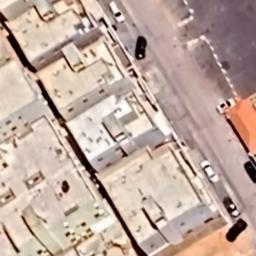SUV: (216, 98, 236, 114)
sedan: (226, 218, 248, 242), (200, 160, 220, 183), (222, 196, 240, 217), (243, 160, 256, 184), (134, 35, 146, 59)
van: (108, 1, 126, 23)
